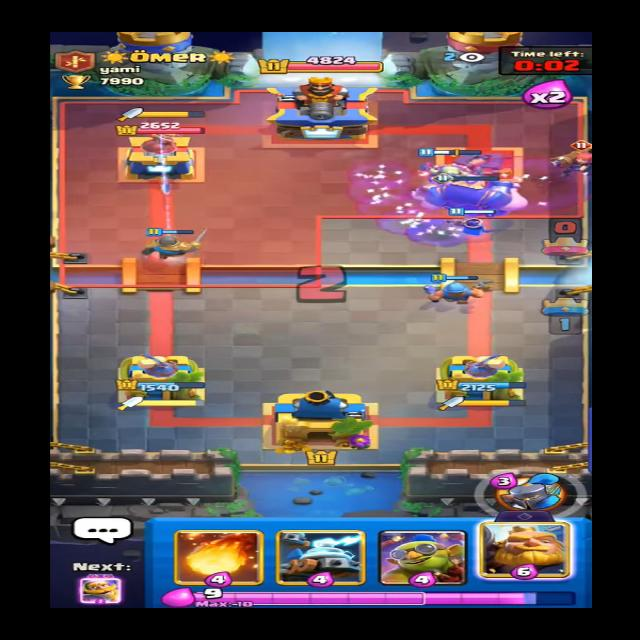evo-firecracker: (544, 139, 603, 182)
